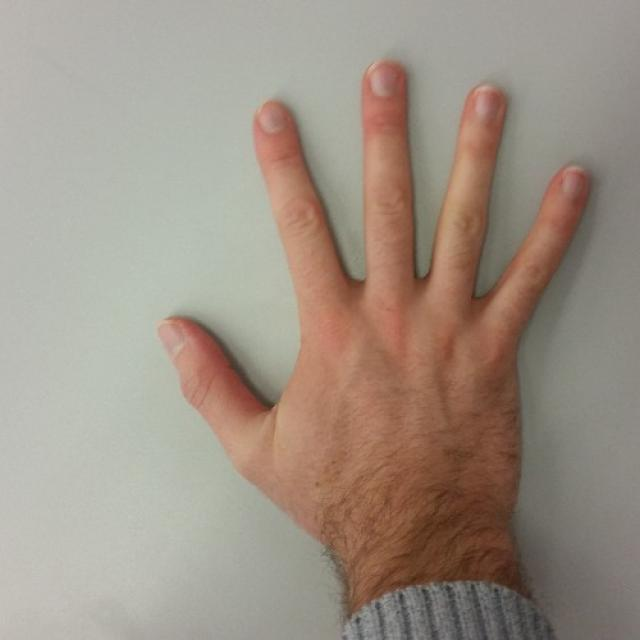paper: (155, 52, 592, 534)
